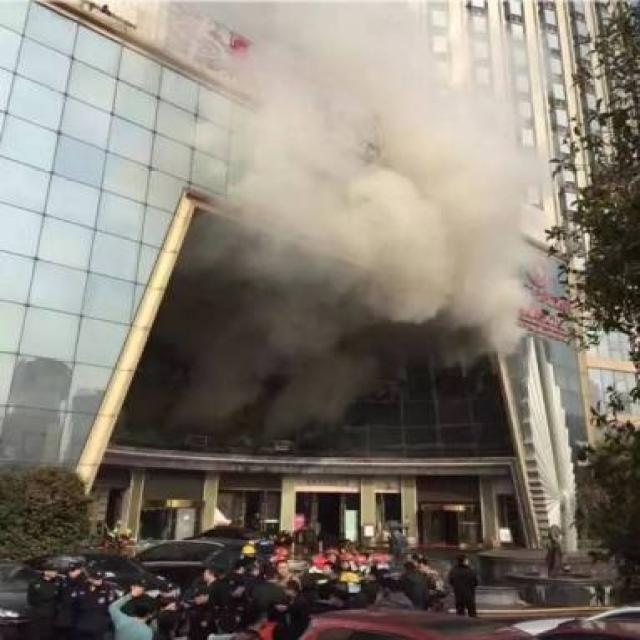Smoke: (201, 4, 534, 434)
